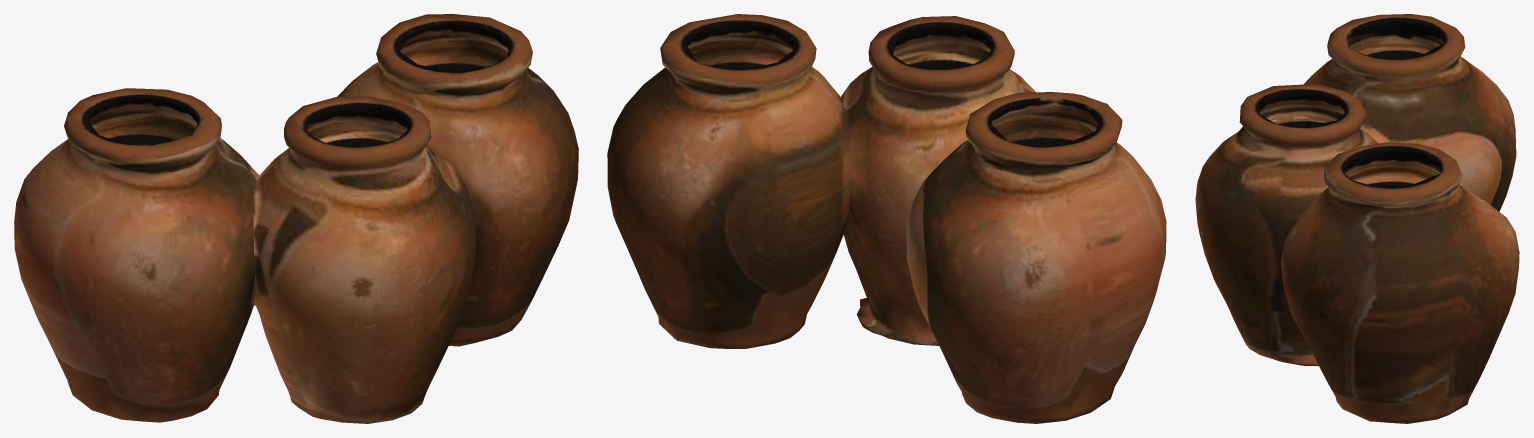
Rendered from toad-prop3d-jars.glb.
3 views of the same model, side by side, from view 1: azimuth 30°, elevation 25°; view 2: azimuth 150°, elevation 25°; view 3: azimuth 270°, elevation 25° (orthographic). The views are drawn at different scales.
Visible parts, largest first — view 1: world; view 2: world; view 3: world.
Boxes of the visible parts, box(x1,y1,x2,y2) form: world: box(14, 14, 578, 423); world: box(607, 14, 1166, 423); world: box(1195, 14, 1519, 423).
Size of the model in its own units: 0.2 by 0.1 by 0.1255.
Materials: 1 (1 with a texture image).
